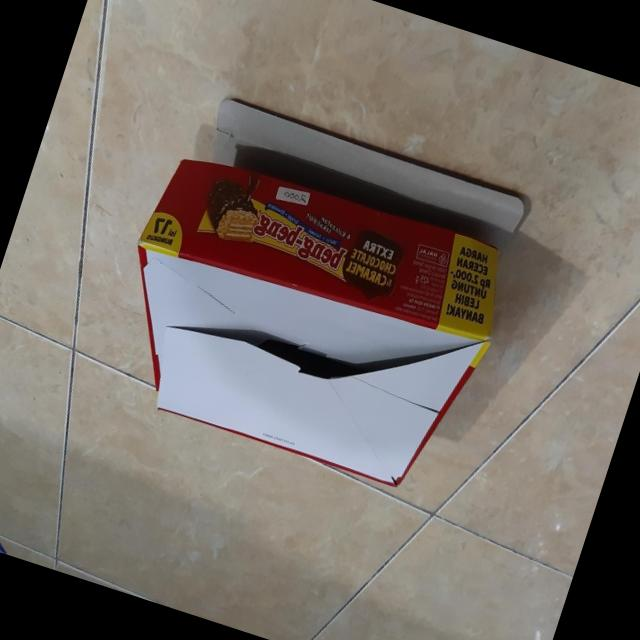Kardus: (89, 87, 538, 505)
